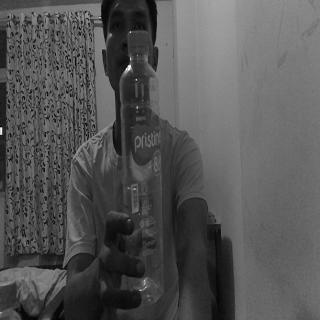plastic_bottles: (118, 28, 163, 306)
